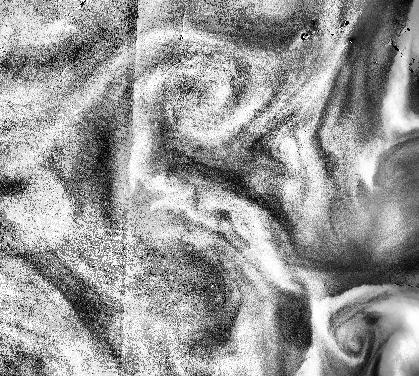AE: (134, 31, 270, 148)
CE: (325, 306, 378, 365)
